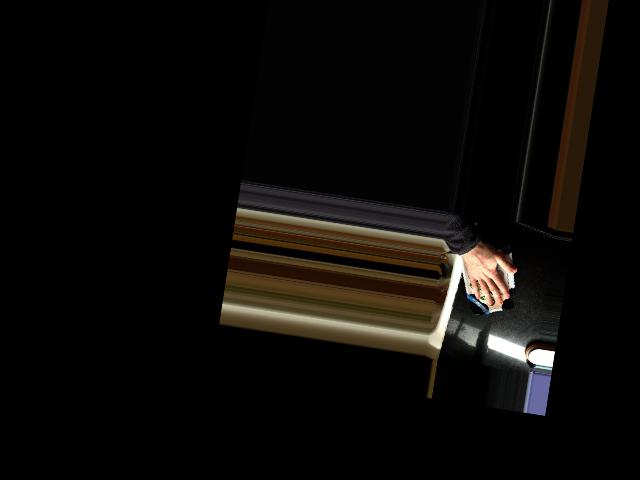cheese: (449, 236, 525, 321)
